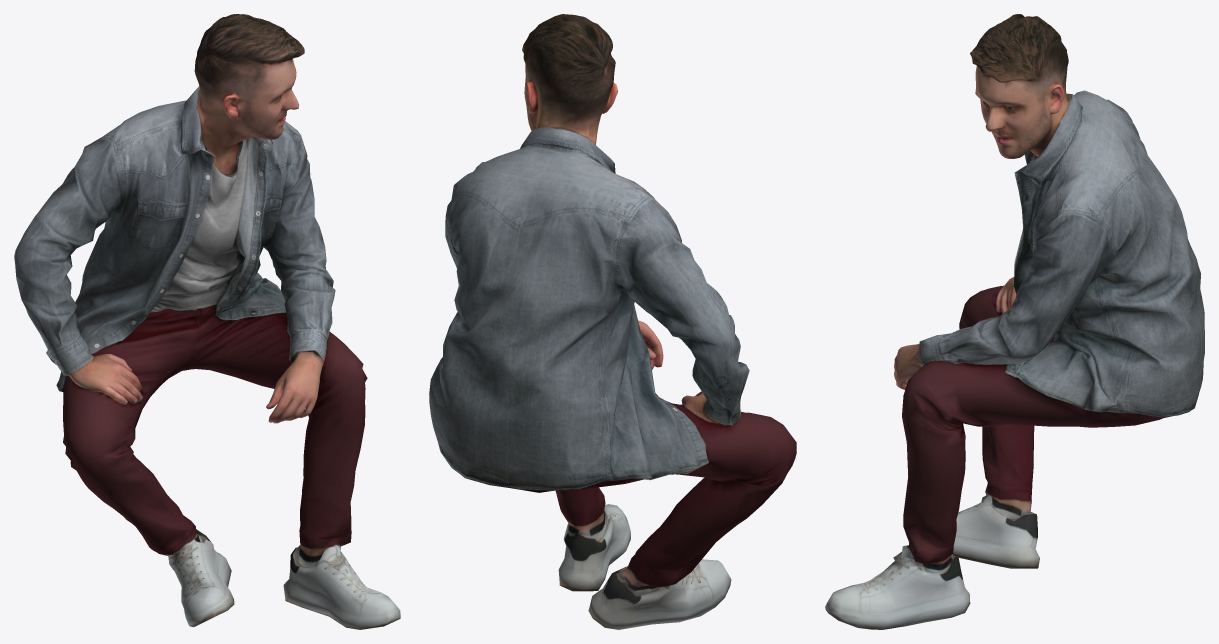
The model's file is Humano_Posed_0341842-Man_04_LOD2.fbx.
The picture shows the model from 3 angles, left to right: view 1: azimuth 30°, elevation 25°; view 2: azimuth 150°, elevation 25°; view 3: azimuth 270°, elevation 25°; orthographic projection. The views are drawn at different scales.
Visible parts, largest first — view 1: Humano_Posed_0341842-Man_04_LOD2; view 2: Humano_Posed_0341842-Man_04_LOD2; view 3: Humano_Posed_0341842-Man_04_LOD2.
Boxes of the visible parts, x1,y1,x2,y2 form: Humano_Posed_0341842-Man_04_LOD2: (14, 14, 400, 629); Humano_Posed_0341842-Man_04_LOD2: (429, 14, 796, 629); Humano_Posed_0341842-Man_04_LOD2: (825, 14, 1204, 629).
Size of the model in its own units: 69.61 by 134 by 80.11.
Materials: 1 (1 with a texture image).
